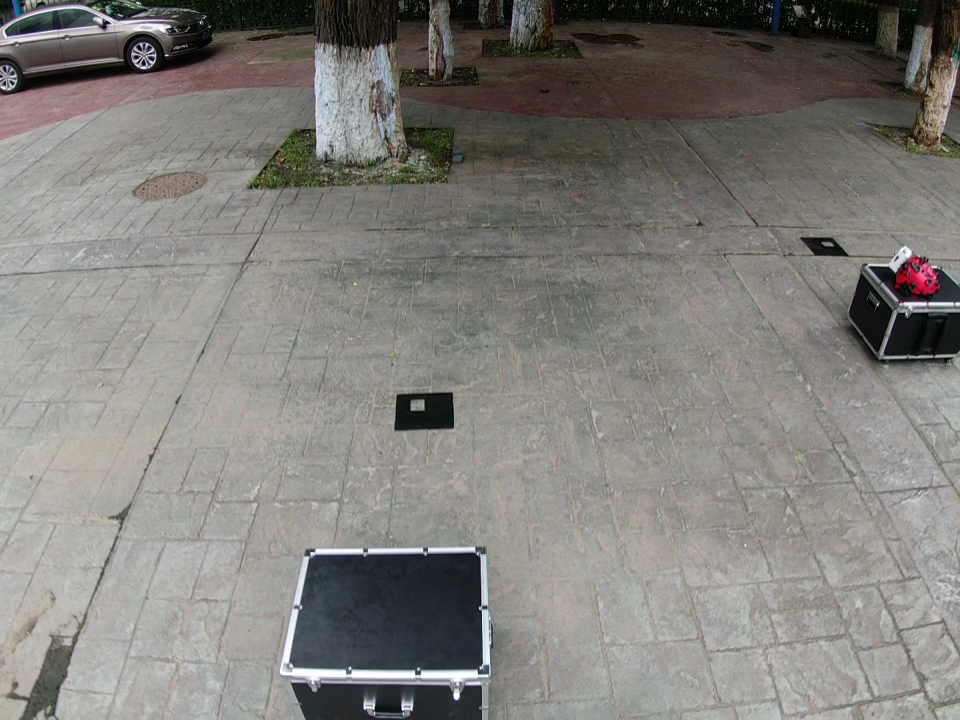box: (280, 546, 491, 720), (847, 263, 960, 360)
helmet: (894, 259, 937, 297)
qrcode: (394, 393, 454, 430), (801, 237, 849, 256)
